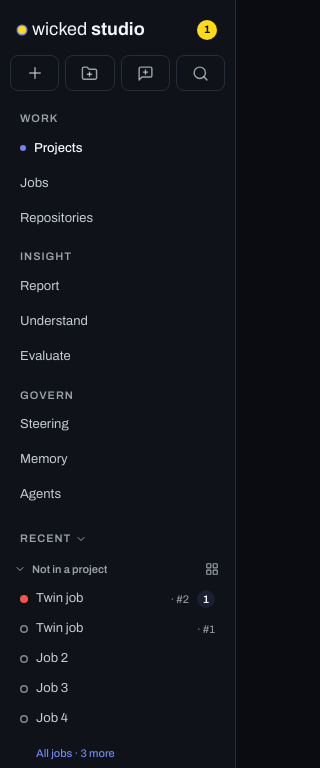
Test: folding a group › storage that throws or holds junk means nothing folded, and folding still works for the page
The width and height of the screenshot is (320, 768).
Click the button with test id "rail-group-toggle" at (102, 569), box [10,556,195,582]
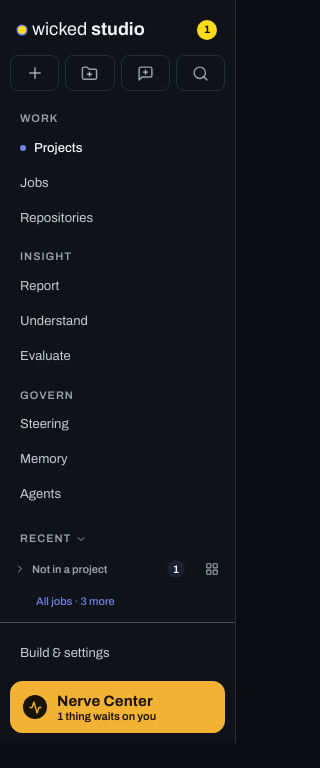
Check: the button with test id "rail-group-toggle" is collapsed, box [10,556,195,582]
